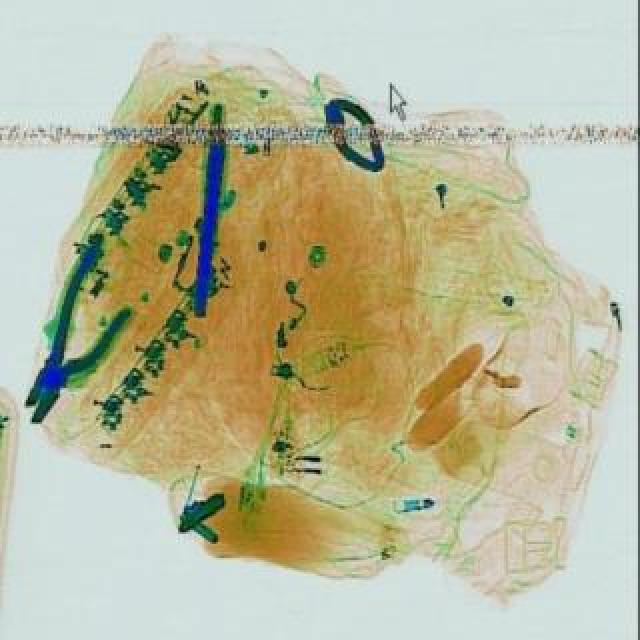wrench: (0, 244, 144, 428)
